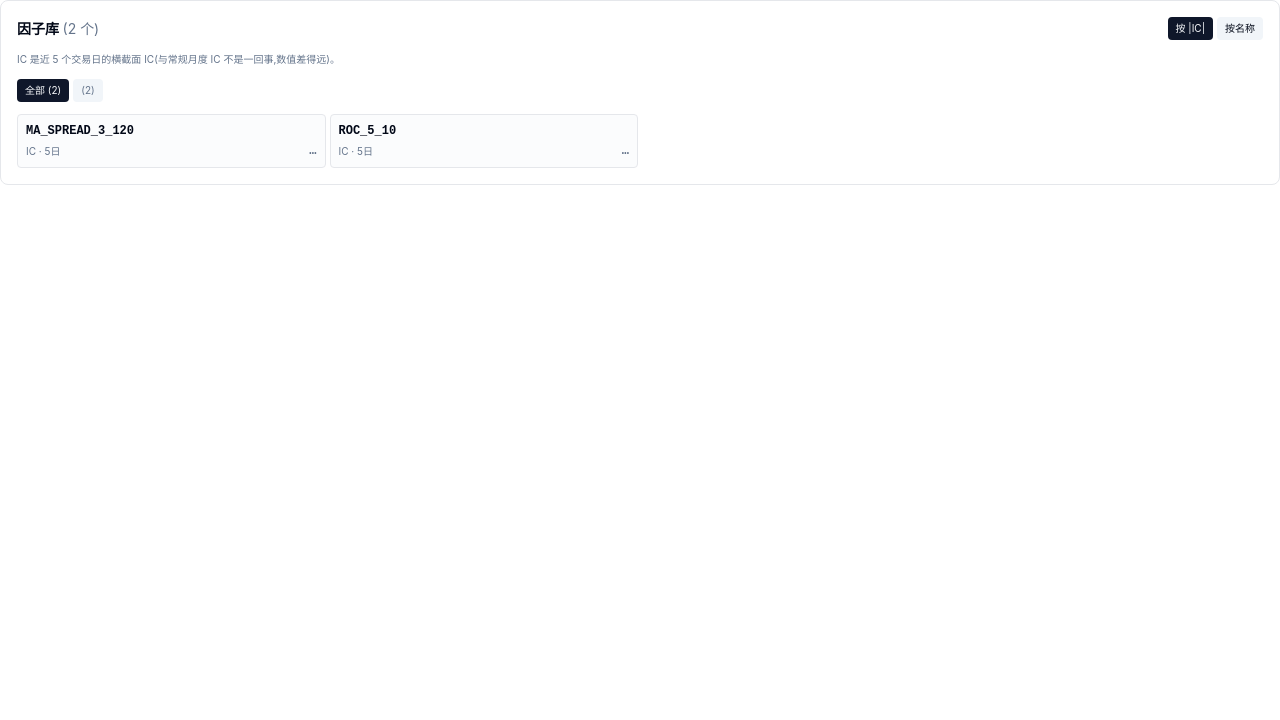
Test: 因子 IC 详情取不到时 › 工具抛错时,原因被显示出来,不是一直转圈
The width and height of the screenshot is (1280, 720).
Click the text "MA_SPREAD_3_120" at point(80, 131), box [26,123,134,139]
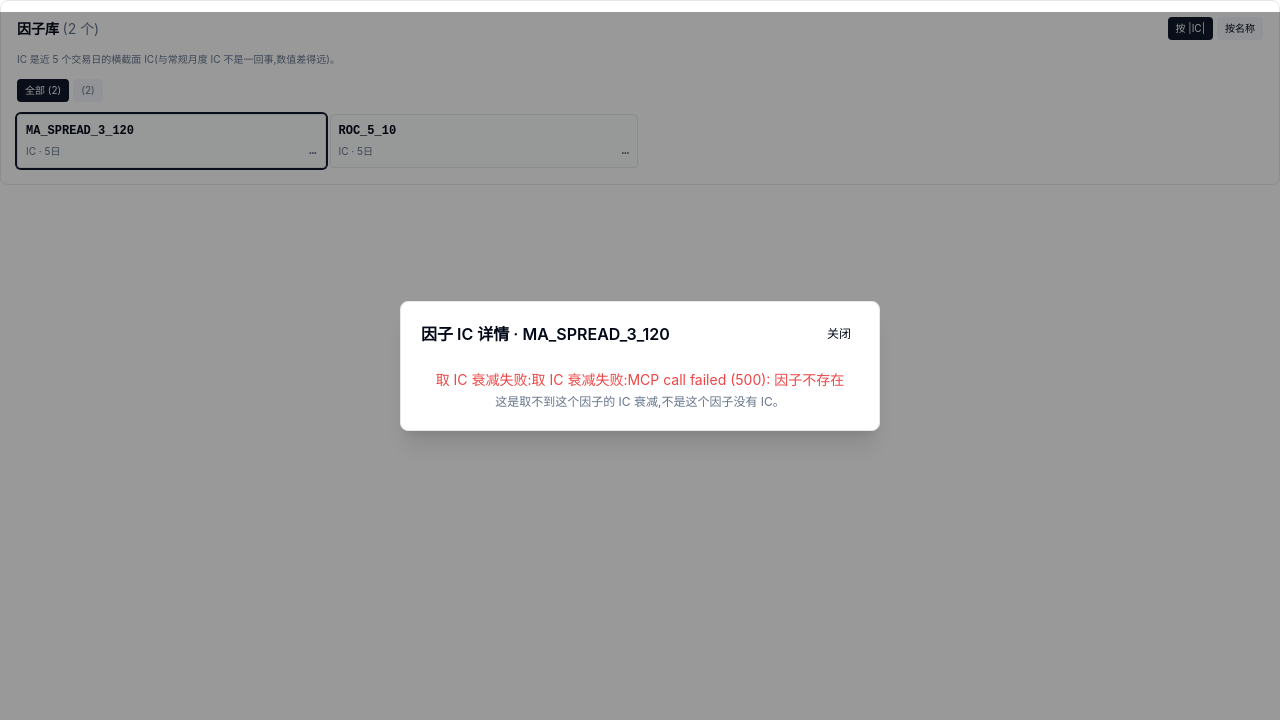
Now the text "取 IC 衰减失败:取 IC 衰减失败:MCP call failed (500): 因子不存在" is shown, box [436,371,844,388]
Now the text "因子不存在" is shown, box [532,371,844,388]
